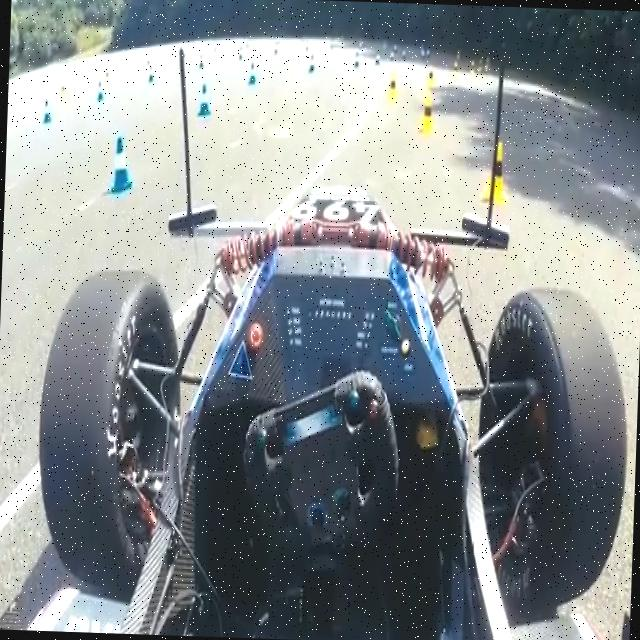blue_cone: (107, 136, 134, 196), (198, 83, 212, 118), (246, 62, 258, 86)
yellow_cone: (484, 139, 508, 202), (418, 92, 437, 136)
